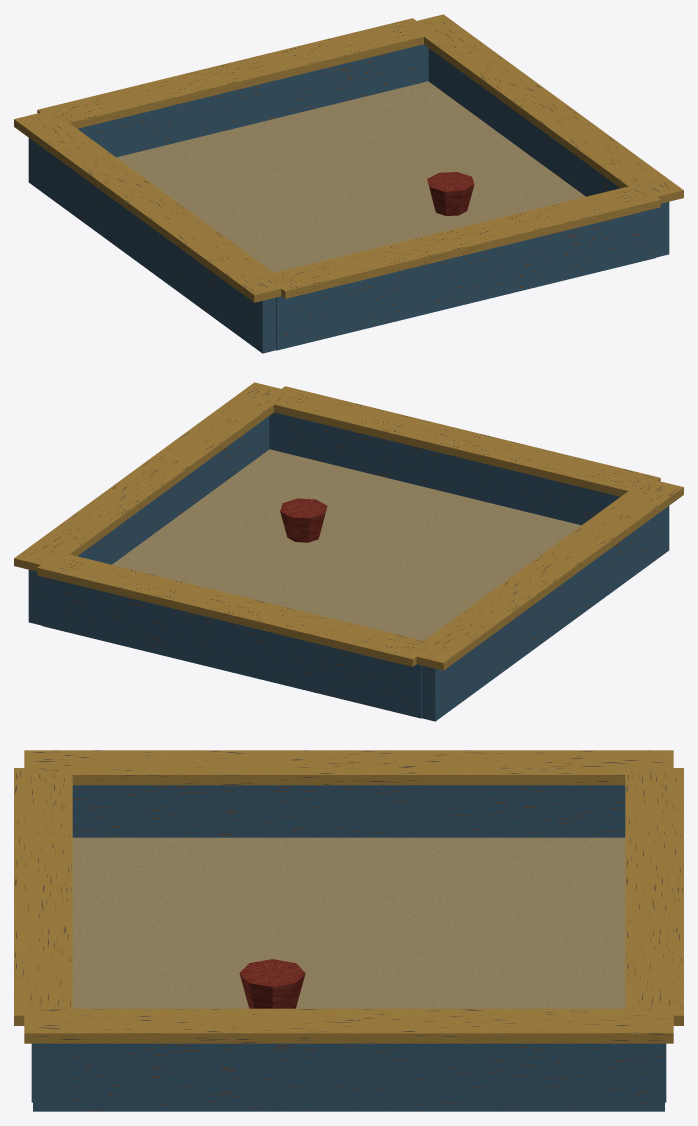
The model's file is CIS_Sandbox.glb.
3 renders of one model, top to bottom at view 1: azimuth 30°, elevation 25°; view 2: azimuth 150°, elevation 25°; view 3: azimuth 270°, elevation 25°, orthographic. The views are drawn at different scales.
Visible parts, largest first — view 1: CIS_Sandbox; view 2: CIS_Sandbox; view 3: CIS_Sandbox.
Part boxes in pixels (left/top/right/bottom): CIS_Sandbox: left=14, top=14, right=683, bottom=353; CIS_Sandbox: left=14, top=382, right=683, bottom=721; CIS_Sandbox: left=14, top=750, right=683, bottom=1111.
Bounding box in the file's own units: 2.63 × 0.3725 × 2.63.
Materials: 4 (4 with a texture image).
